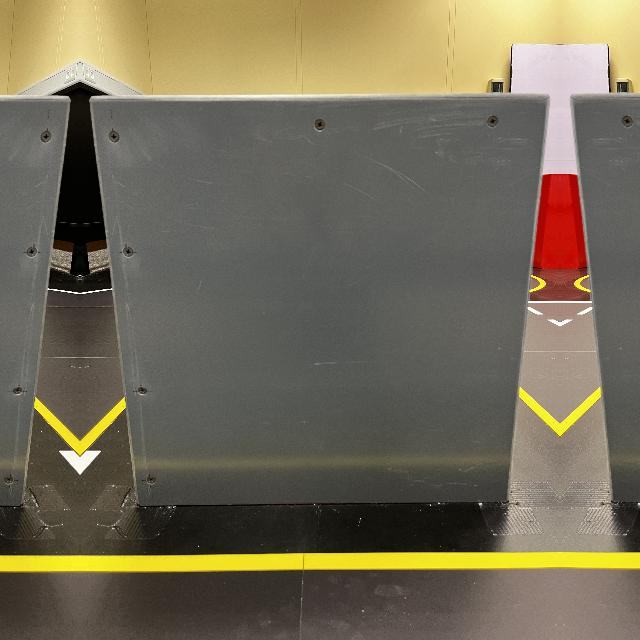obstacle: (86, 94, 552, 506), (0, 93, 74, 506), (568, 93, 640, 506)
